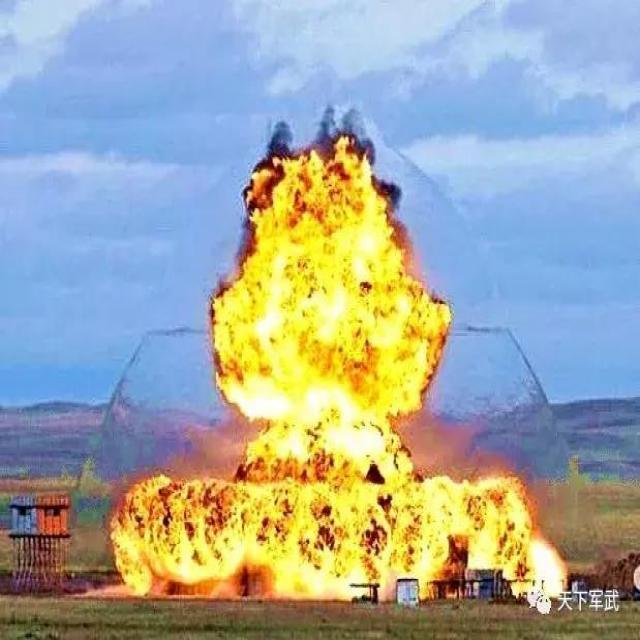fire: (104, 110, 574, 610)
